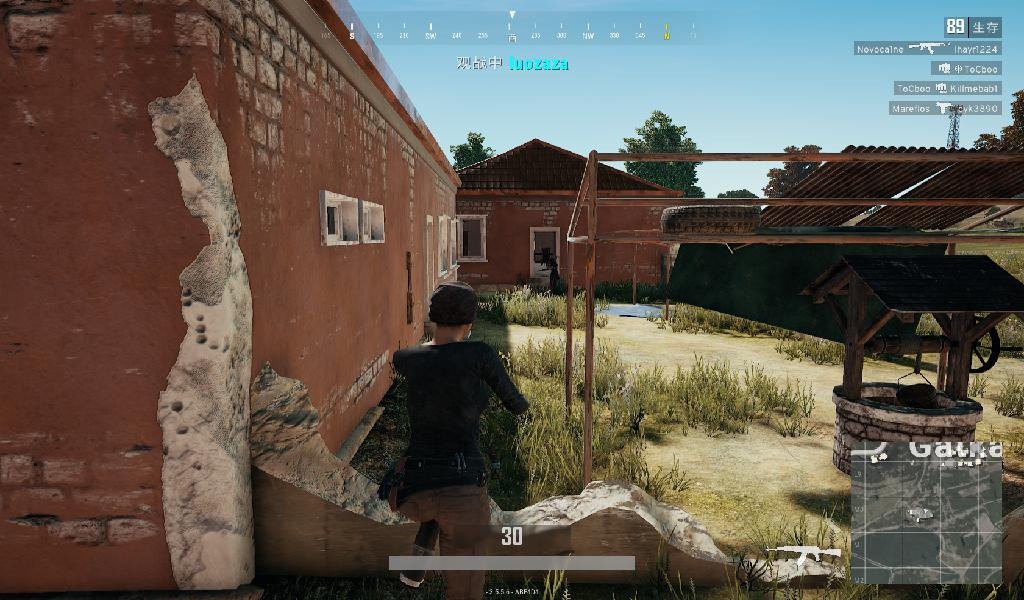Target Person: (390, 280, 530, 600)
